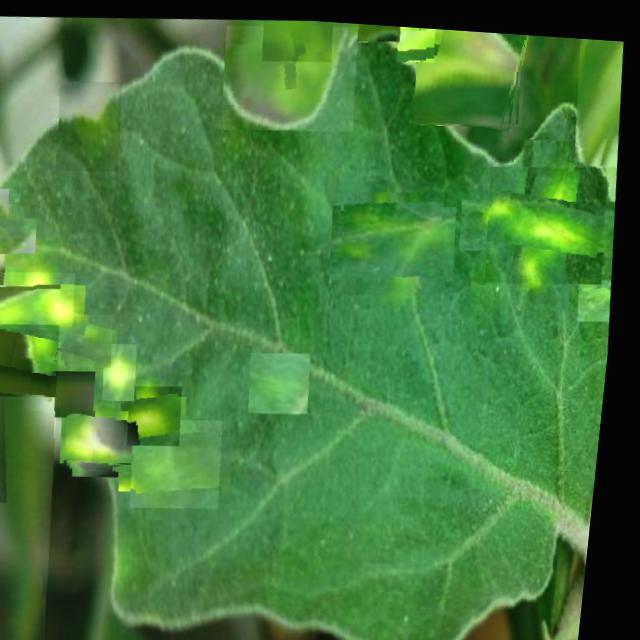leaf_spot: (0, 392, 78, 640), (219, 16, 364, 134), (484, 153, 616, 282), (339, 181, 456, 294), (410, 22, 531, 125), (0, 318, 74, 466), (136, 413, 236, 510), (570, 30, 630, 160), (0, 267, 85, 351), (55, 77, 129, 173), (71, 406, 140, 472), (253, 346, 320, 412), (125, 381, 193, 446), (62, 310, 123, 369), (260, 14, 335, 61), (108, 340, 147, 401), (0, 199, 32, 270), (581, 269, 619, 314), (395, 21, 437, 58), (357, 19, 401, 38)
